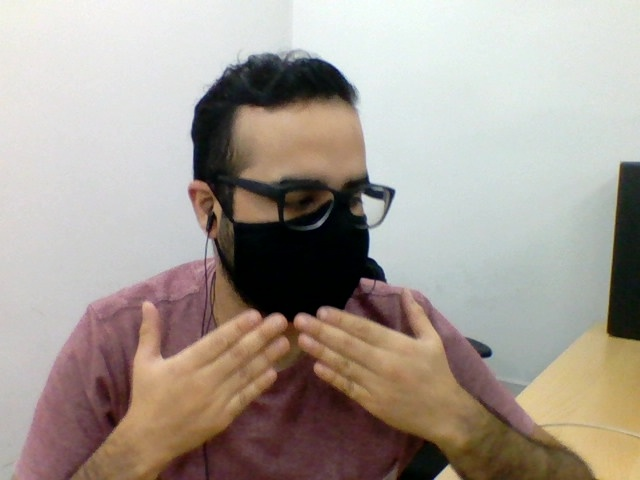ThankYou: (127, 286, 463, 459)
